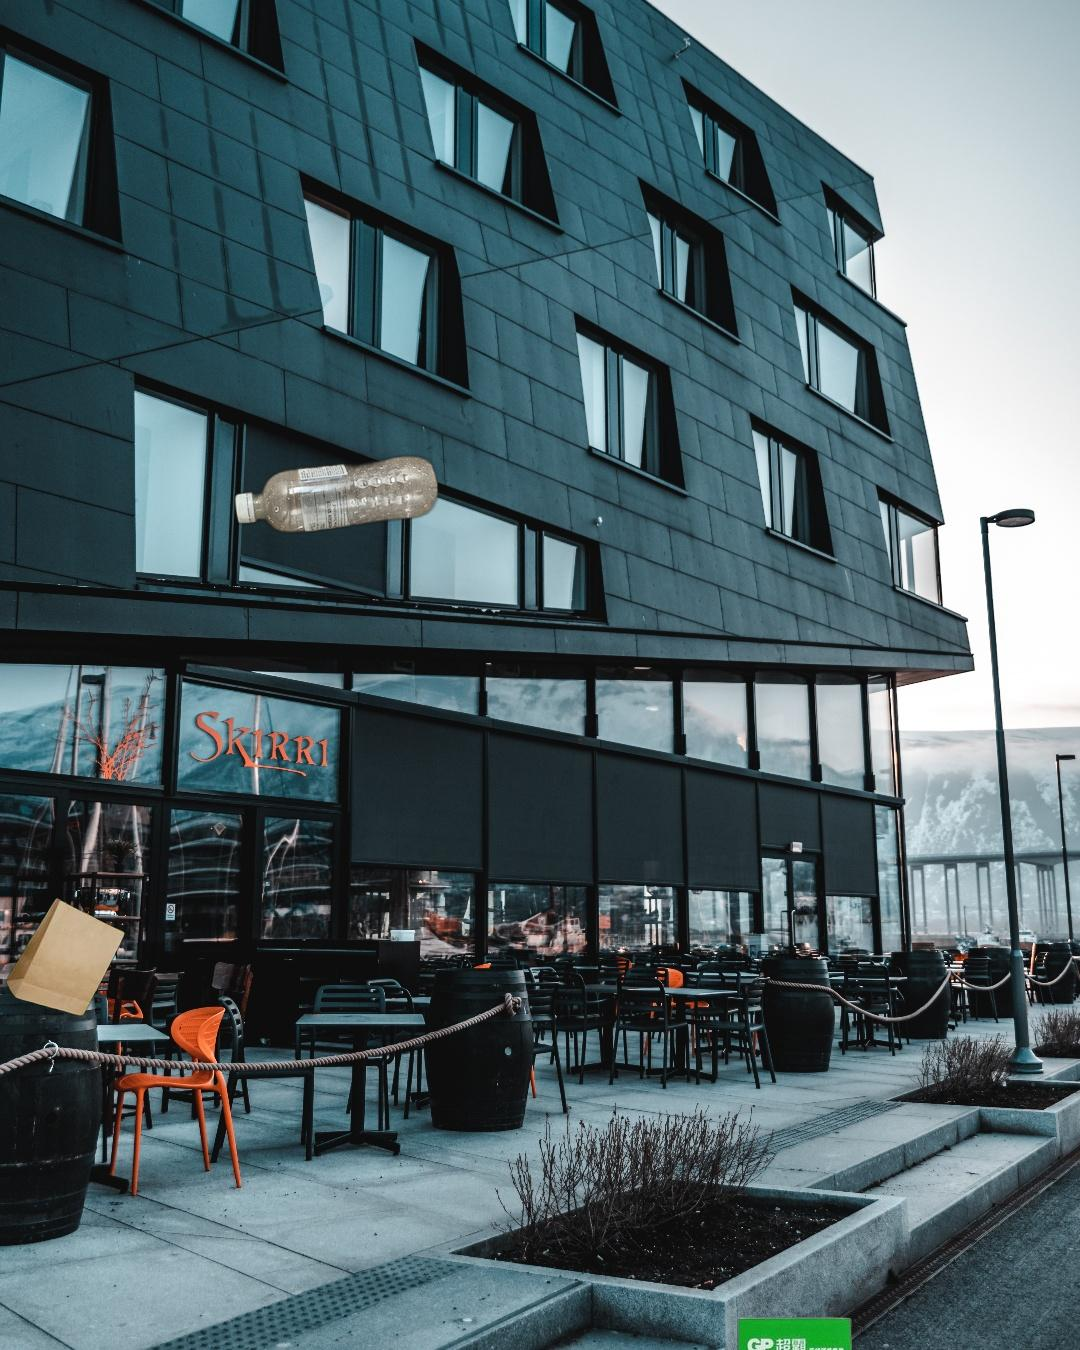battery: (730, 1314, 856, 1350)
paper-bag: (4, 893, 128, 1018)
plastic-bottles: (231, 450, 443, 539)
